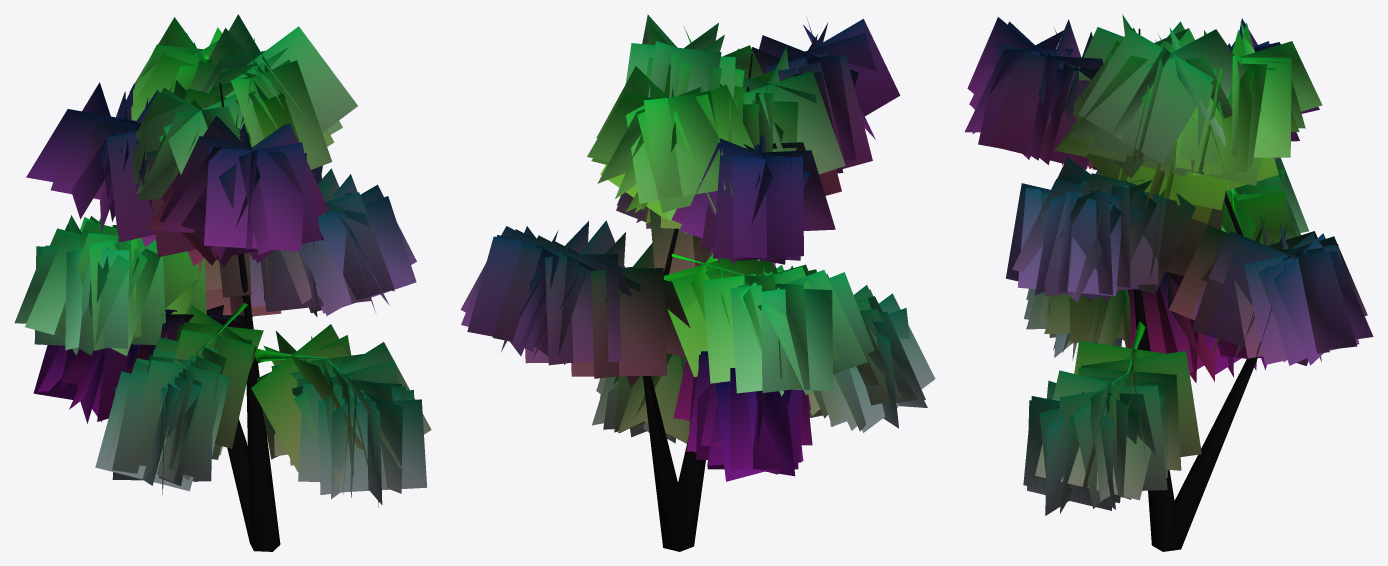
File: URP_P13_Tree_5_LOD_3.fbx
3 renders of one model, left to right at view 1: azimuth 30°, elevation 25°; view 2: azimuth 150°, elevation 25°; view 3: azimuth 270°, elevation 25°, orthographic.
Visible parts, largest first — view 1: Tree_5_LOD_3; view 2: Tree_5_LOD_3; view 3: Tree_5_LOD_3.
Part boxes in pixels (box(x1,y1,x2,y2)): Tree_5_LOD_3: box(14, 14, 431, 551); Tree_5_LOD_3: box(460, 14, 935, 551); Tree_5_LOD_3: box(964, 14, 1373, 551).
Size of the model in its own units: 417 by 591 by 426.
